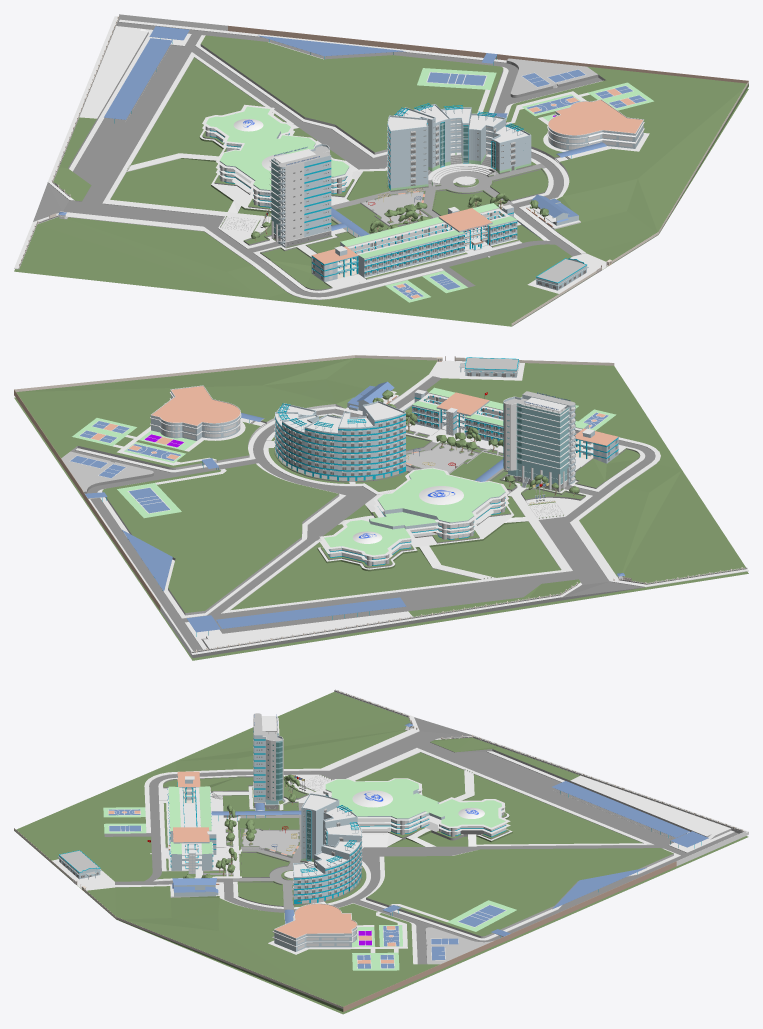
File: uit_myuit_tach.glb
The picture shows the model from 3 angles, top to bottom: view 1: azimuth 30°, elevation 25°; view 2: azimuth 150°, elevation 25°; view 3: azimuth 270°, elevation 25°; orthographic projection. The views are drawn at different scales.
Visible parts, largest first — view 1: map, BLD_B, BLD_C, BLD_A, BLD_E, ROOF_walk, BLD_CanTin, BLD_D, GND_Base, PODIUM_B, BLD_CanTin2; view 2: map, BLD_A, BLD_B, BLD_E, BLD_C, ROOF_walk, BLD_CanTin, GND_Base, BLD_D, BLD_CanTin2; view 3: map, BLD_A, BLD_B, BLD_C, ROOF_walk, BLD_CanTin, BLD_E, GND_Base, BLD_CanTin2, BLD_D.
Boxes of the visible parts, x1=… form: map: x1=14, y1=14, x2=748, y2=326; BLD_B: x1=387, y1=103, x2=531, y2=190; BLD_C: x1=311, y1=203, x2=517, y2=281; BLD_A: x1=202, y1=104, x2=352, y2=207; BLD_E: x1=269, y1=144, x2=331, y2=246; ROOF_walk: x1=58, y1=25, x2=606, y2=236; BLD_CanTin: x1=547, y1=99, x2=644, y2=150; BLD_D: x1=534, y1=258, x2=588, y2=290; GND_Base: x1=14, y1=89, x2=748, y2=326; PODIUM_B: x1=415, y1=155, x2=496, y2=186; BLD_CanTin2: x1=531, y1=194, x2=578, y2=225; map: x1=14, y1=355, x2=748, y2=658; BLD_A: x1=319, y1=467, x2=509, y2=566; BLD_B: x1=274, y1=401, x2=405, y2=480; BLD_E: x1=503, y1=391, x2=575, y2=492; BLD_C: x1=409, y1=387, x2=619, y2=463; ROOF_walk: x1=85, y1=413, x2=624, y2=632; BLD_CanTin: x1=150, y1=385, x2=241, y2=440; GND_Base: x1=14, y1=397, x2=748, y2=660; BLD_D: x1=459, y1=357, x2=519, y2=377; BLD_CanTin2: x1=347, y1=381, x2=394, y2=410; map: x1=14, y1=689, x2=748, y2=1011; BLD_A: x1=322, y1=778, x2=510, y2=837; BLD_B: x1=293, y1=793, x2=362, y2=903; BLD_C: x1=167, y1=771, x2=216, y2=873; ROOF_walk: x1=211, y1=723, x2=708, y2=936; BLD_CanTin: x1=272, y1=903, x2=357, y2=951; BLD_E: x1=253, y1=713, x2=284, y2=810; GND_Base: x1=16, y1=832, x2=748, y2=1014; BLD_CanTin2: x1=172, y1=878, x2=218, y2=896; BLD_D: x1=58, y1=850, x2=101, y2=879.
Bounding box in the file's own units: 462 × 51.71 × 446.
Materials: 24 (1 with a texture image).
